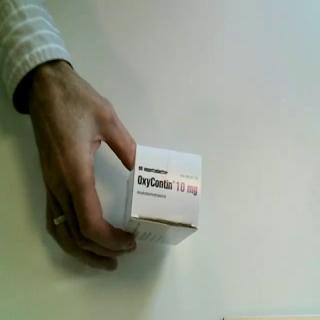oxynorm10mg: (122, 143, 205, 249)
